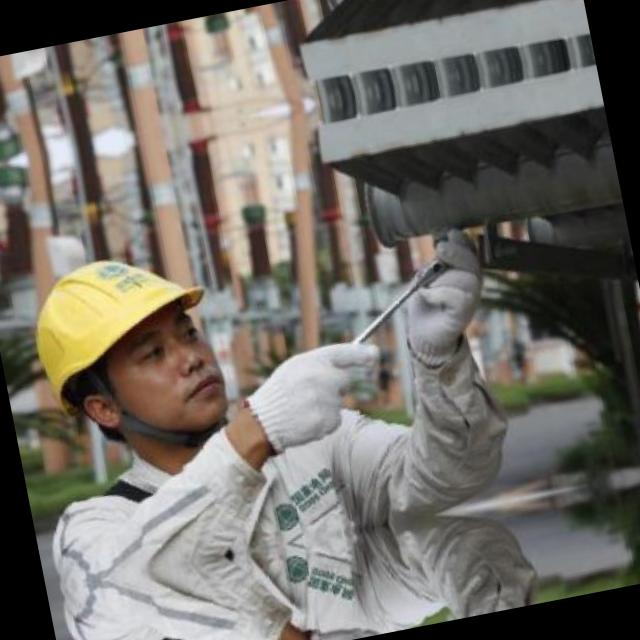helmet: (2, 217, 263, 476)
